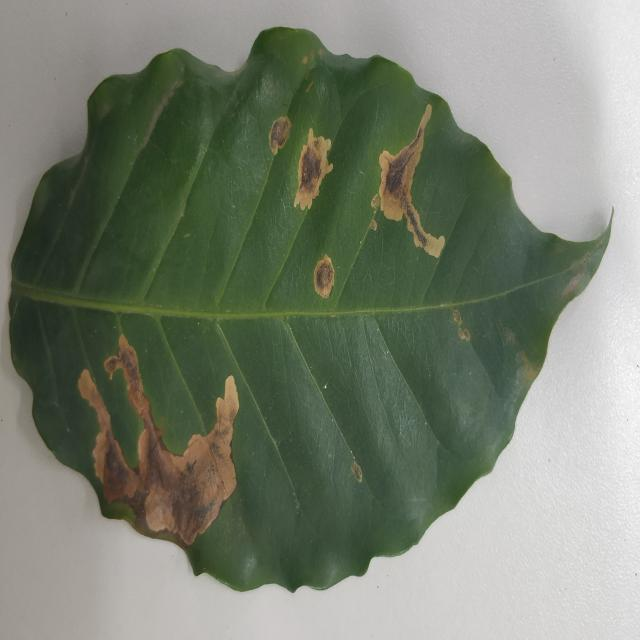Plaga-Minador: (7, 28, 612, 596)
